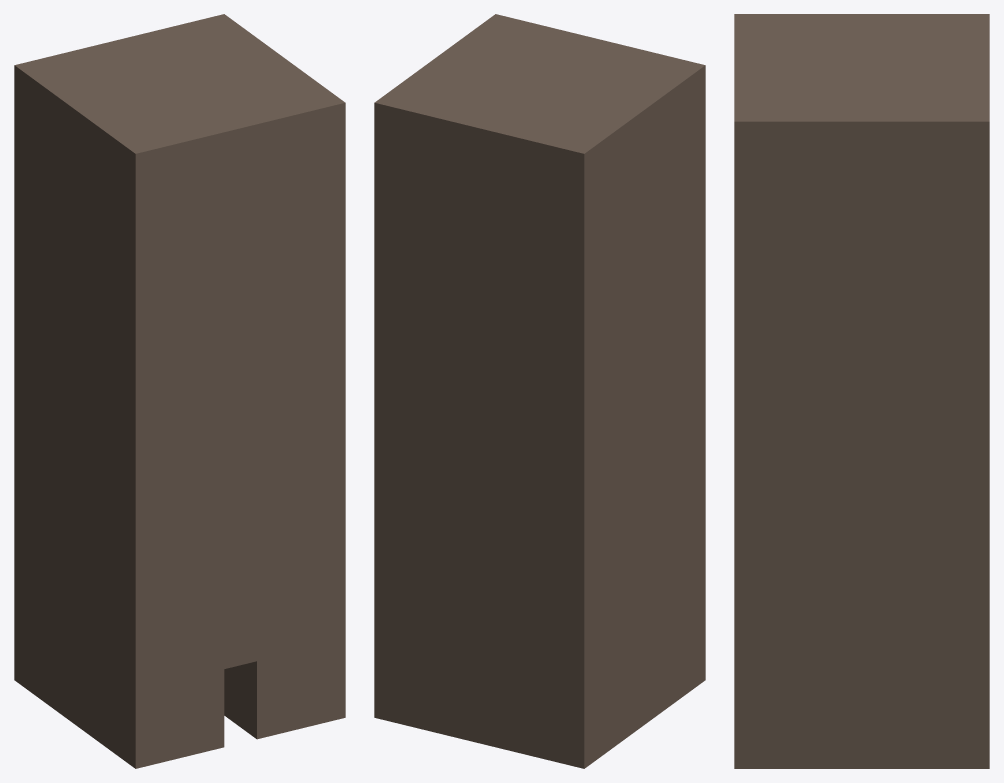
Rendered from desert-tower.obj.
3 renders of one model, left to right at view 1: azimuth 30°, elevation 25°; view 2: azimuth 150°, elevation 25°; view 3: azimuth 270°, elevation 25°, orthographic. The views are drawn at different scales.
Bounding box in the file's own units: 45 × 126 × 45.
1 material, 1 textured.
